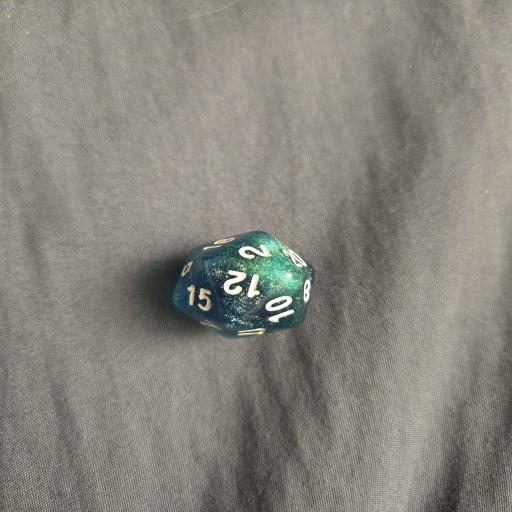twenty sided dice: (172, 230, 315, 338)
